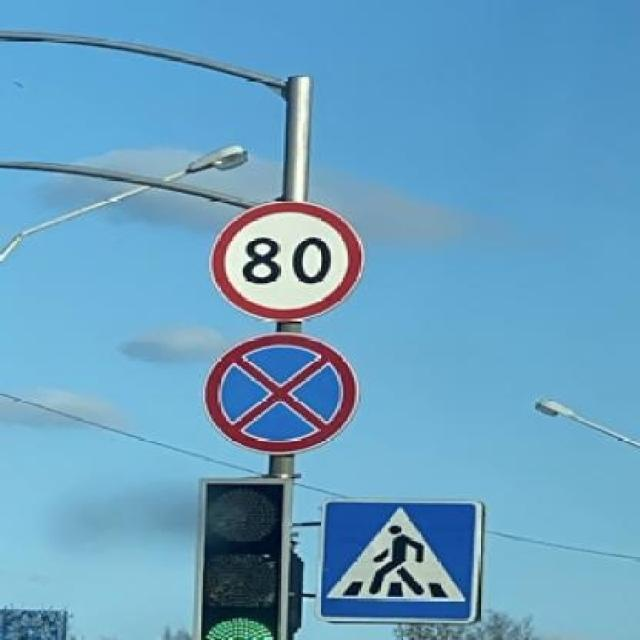forb_speed_over_80: (213, 196, 361, 321)
